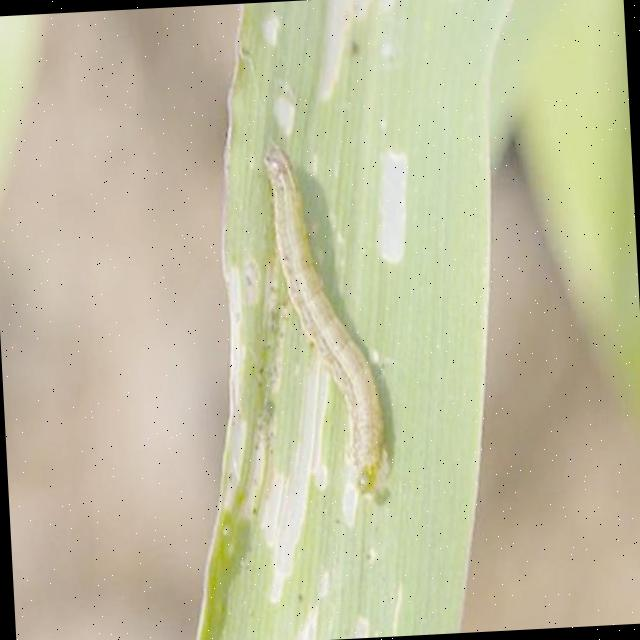worm: (263, 137, 397, 510)
